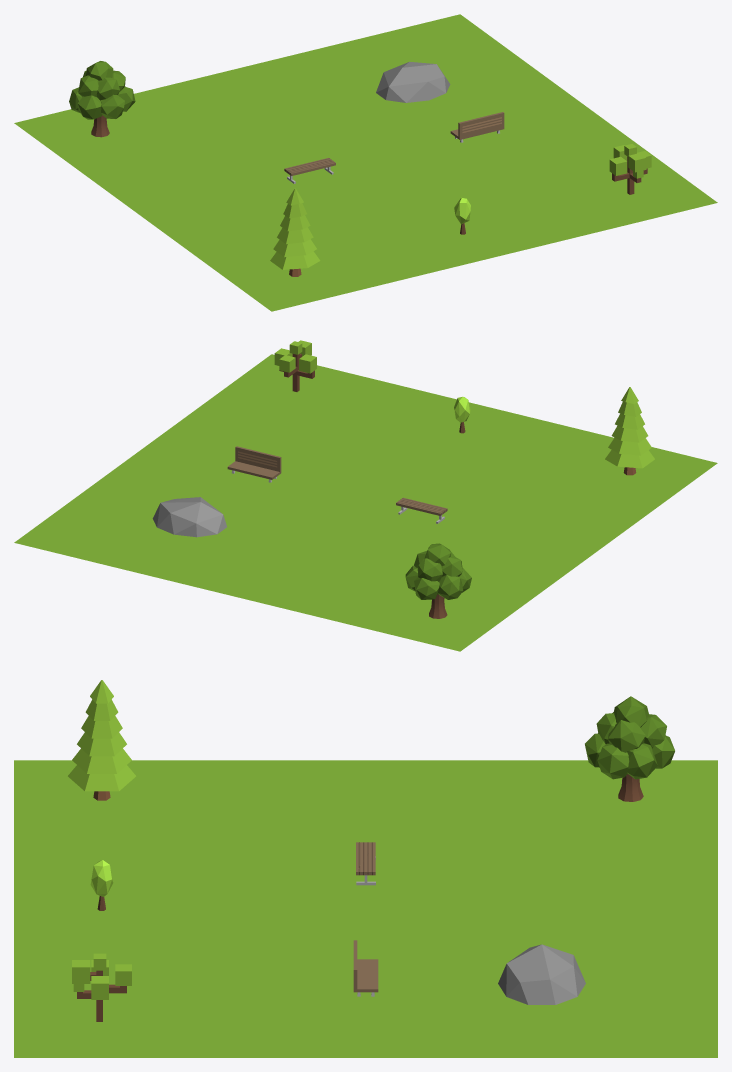
Rendered from remix-park-corner.glb.
3 views of the same model, one above another, from view 1: azimuth 30°, elevation 25°; view 2: azimuth 150°, elevation 25°; view 3: azimuth 270°, elevation 25° (orthographic). The views are drawn at different scales.
Parts seen in each view (by area): view 1: Natures_Grass Tile_Plane.010, Natures_Big Tree_Mesh.008, Natures_Fir Tree_Cylinder.004, Natures_Rock_Big_Mesh.001, Natures_Cube Tree_Cube.017, Props_Bench_2_Cube.022, Props_Bench_1_Cube.023; view 2: Natures_Grass Tile_Plane.010, Natures_Big Tree_Mesh.008, Natures_Fir Tree_Cylinder.004, Natures_Rock_Big_Mesh.001, Natures_Cube Tree_Cube.017, Props_Bench_2_Cube.022, Props_Bench_1_Cube.023; view 3: Natures_Grass Tile_Plane.010, Natures_Big Tree_Mesh.008, Natures_Fir Tree_Cylinder.004, Natures_Rock_Big_Mesh.001, Natures_Cube Tree_Cube.017, Props_Bench_2_Cube.022, Props_Bench_1_Cube.023, Natures_Bush_01_Cylinder.
Boxes of the visible parts, bbox=[...] form: Natures_Grass Tile_Plane.010: bbox=[14, 14, 717, 311]; Natures_Big Tree_Mesh.008: bbox=[69, 61, 135, 137]; Natures_Fir Tree_Cylinder.004: bbox=[270, 188, 320, 276]; Natures_Rock_Big_Mesh.001: bbox=[376, 61, 450, 102]; Natures_Cube Tree_Cube.017: bbox=[609, 144, 651, 194]; Props_Bench_2_Cube.022: bbox=[450, 112, 504, 142]; Props_Bench_1_Cube.023: bbox=[284, 158, 335, 183]; Natures_Grass Tile_Plane.010: bbox=[14, 354, 717, 651]; Natures_Big Tree_Mesh.008: bbox=[405, 543, 471, 618]; Natures_Fir Tree_Cylinder.004: bbox=[605, 387, 654, 475]; Natures_Rock_Big_Mesh.001: bbox=[152, 497, 226, 537]; Natures_Cube Tree_Cube.017: bbox=[274, 340, 316, 391]; Props_Bench_2_Cube.022: bbox=[227, 446, 281, 482]; Props_Bench_1_Cube.023: bbox=[396, 497, 447, 523]; Natures_Grass Tile_Plane.010: bbox=[14, 760, 717, 1057]; Natures_Big Tree_Mesh.008: bbox=[585, 696, 674, 801]; Natures_Fir Tree_Cylinder.004: bbox=[68, 680, 135, 800]; Natures_Rock_Big_Mesh.001: bbox=[498, 944, 585, 1004]; Natures_Cube Tree_Cube.017: bbox=[72, 953, 131, 1021]; Props_Bench_2_Cube.022: bbox=[353, 940, 378, 996]; Props_Bench_1_Cube.023: bbox=[356, 842, 375, 885]; Natures_Bush_01_Cylinder: bbox=[90, 860, 113, 910].
Size of the model in its own units: 40 by 7.35 by 40.
2 materials, 2 textured.
